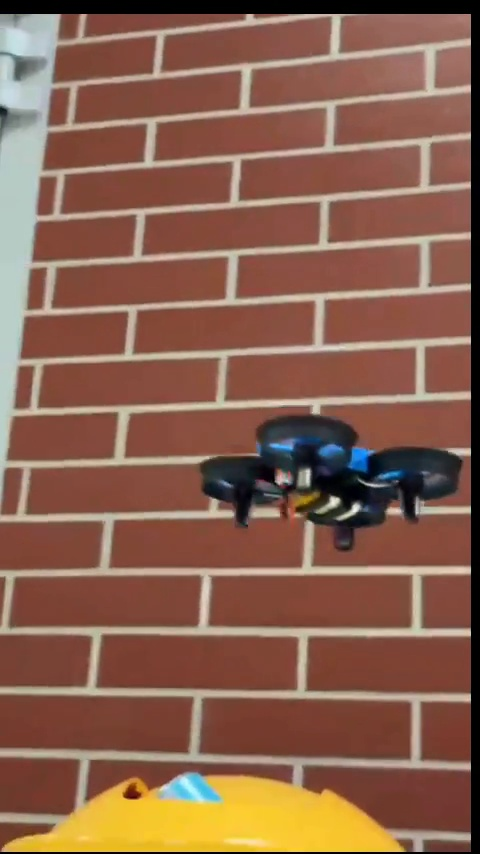drone: (204, 416, 465, 555)
